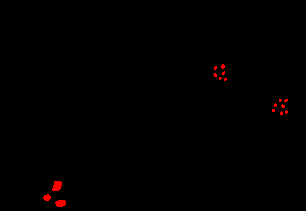Target: (52, 181, 62, 191), (55, 200, 66, 207), (43, 194, 51, 201), (221, 64, 225, 69), (213, 73, 217, 77), (281, 104, 285, 108), (214, 66, 217, 70), (222, 71, 225, 75), (284, 99, 288, 102), (274, 103, 277, 107), (285, 110, 288, 114), (280, 111, 283, 115), (219, 77, 222, 80), (224, 78, 227, 81), (279, 99, 282, 102), (272, 109, 275, 112)
